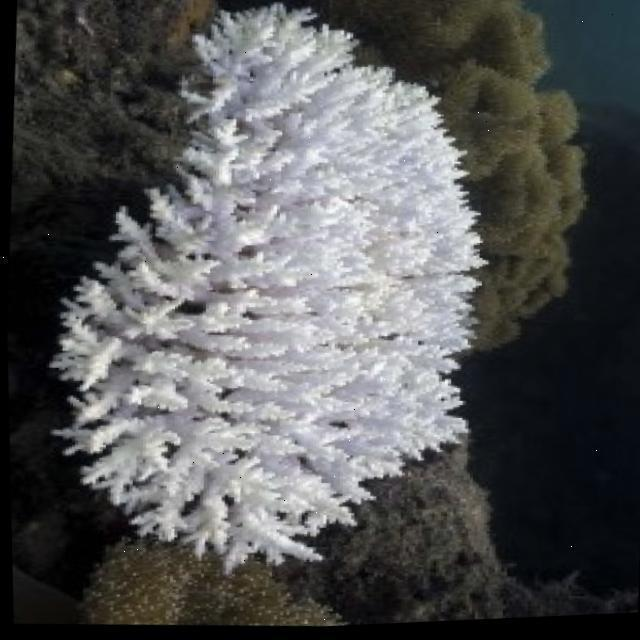Bleached Coral: (30, 0, 509, 600)
